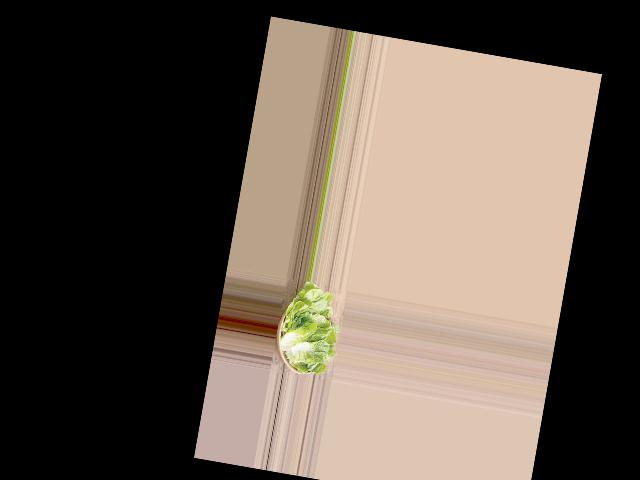lettuce: (270, 279, 344, 382)
